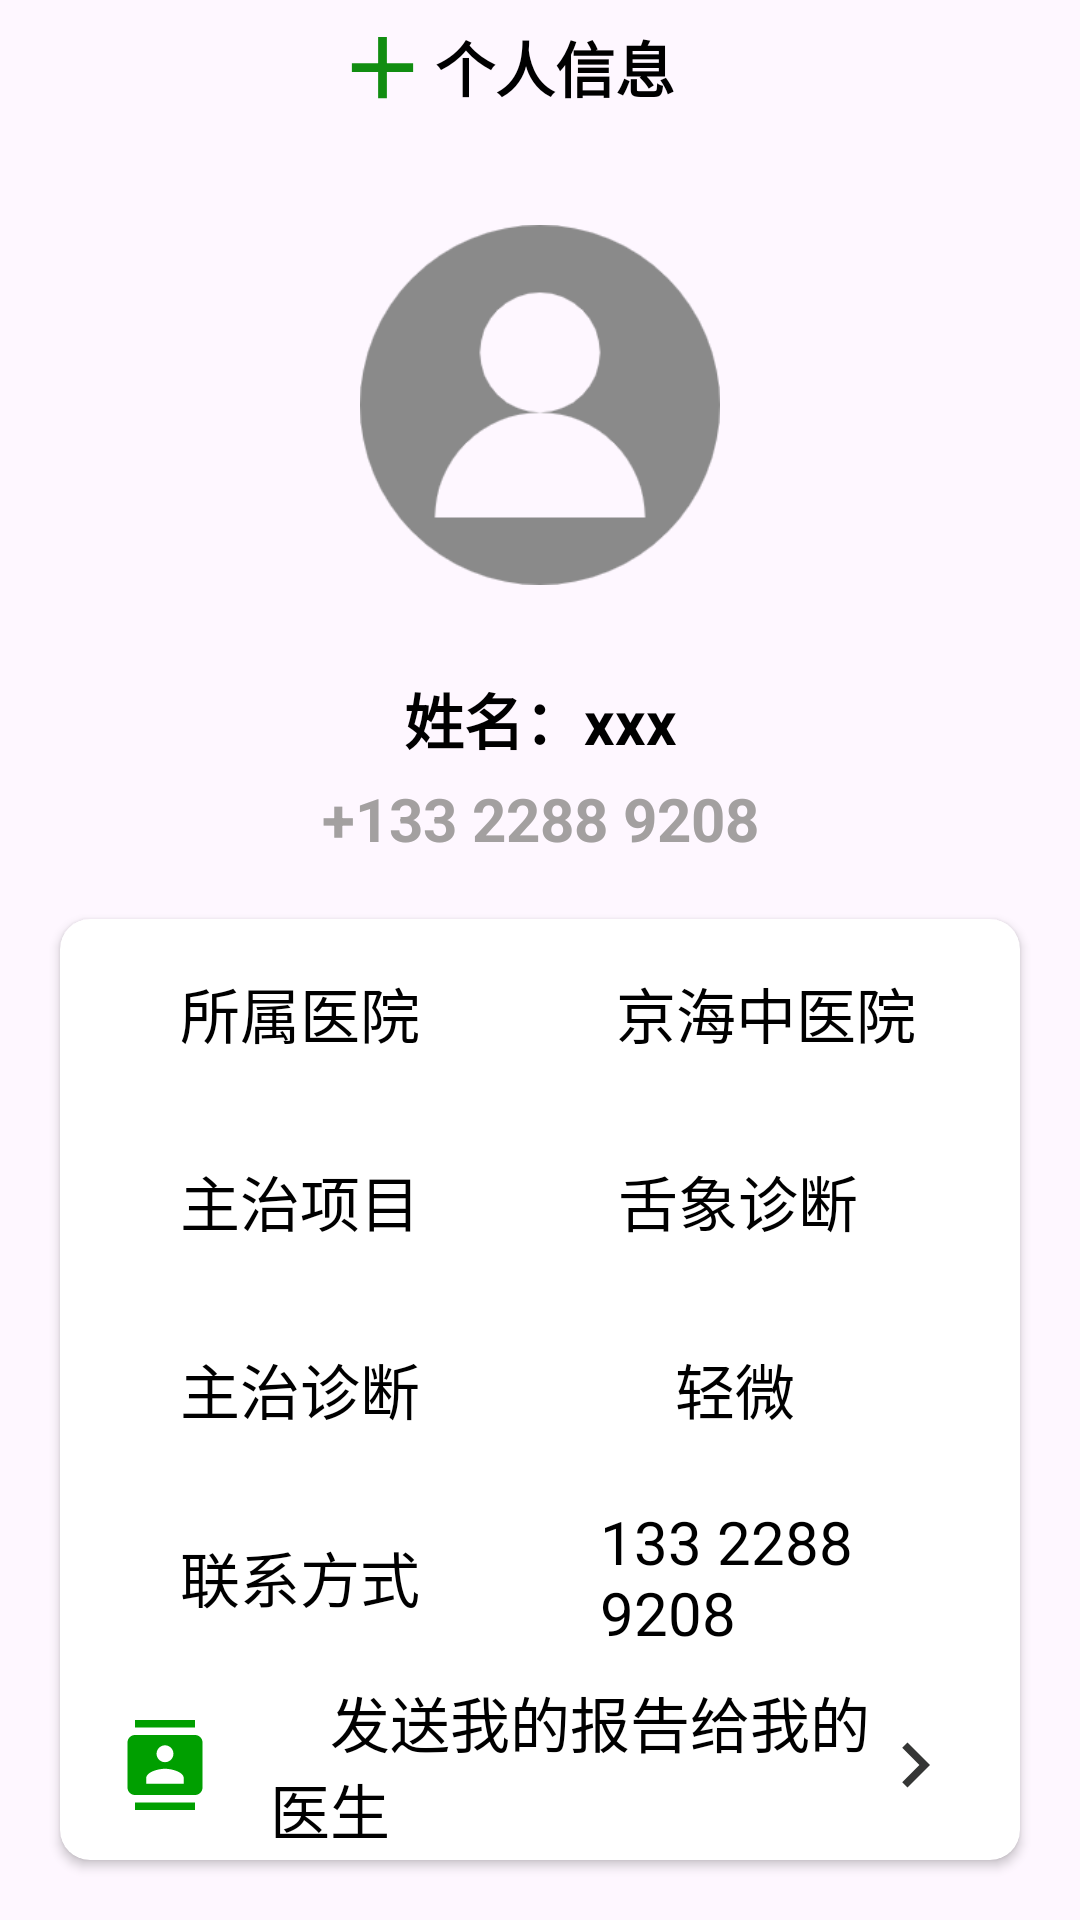

Icon bounding boxes for this 1080px x 1920px phone screenshot, format (x1, y1, x2, y2):
add: (351, 37, 414, 99)
contacts: (127, 1720, 203, 1810)
head: (360, 225, 720, 585)
keyboard arrow right: (902, 1742, 930, 1788)
